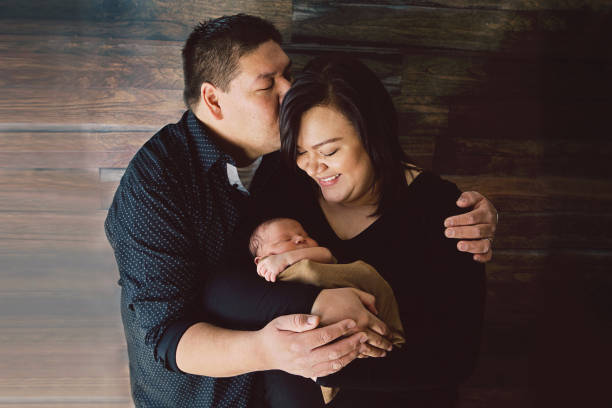without mask: (283, 94, 381, 221), (191, 29, 289, 156), (248, 208, 320, 273)
